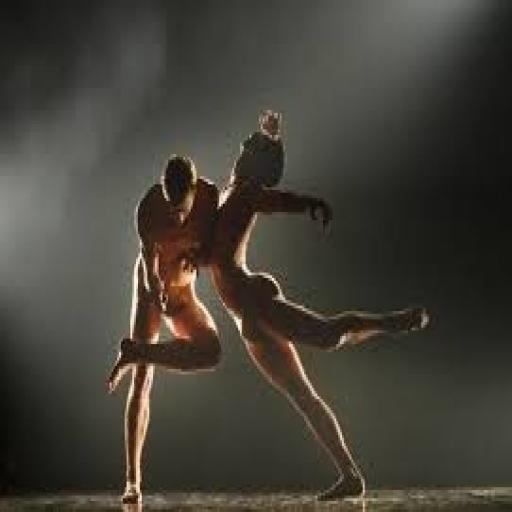dancing: (129, 62, 379, 481)
